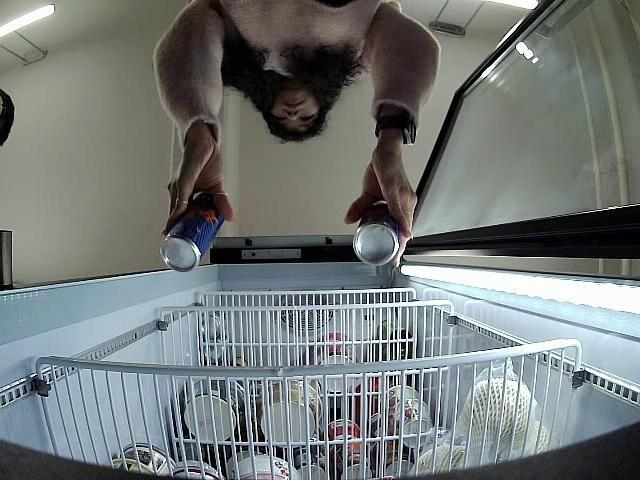16_hot6: (159, 194, 224, 274), (353, 202, 400, 267)
